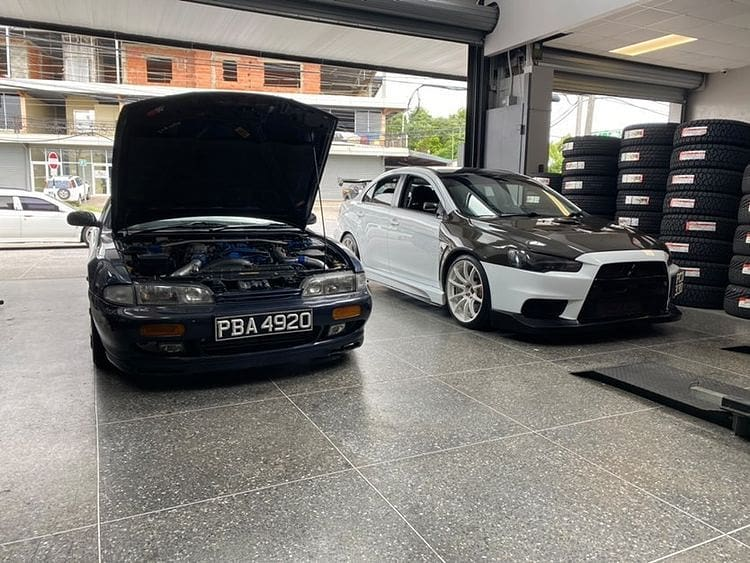License-Plate: (214, 318, 311, 339)
